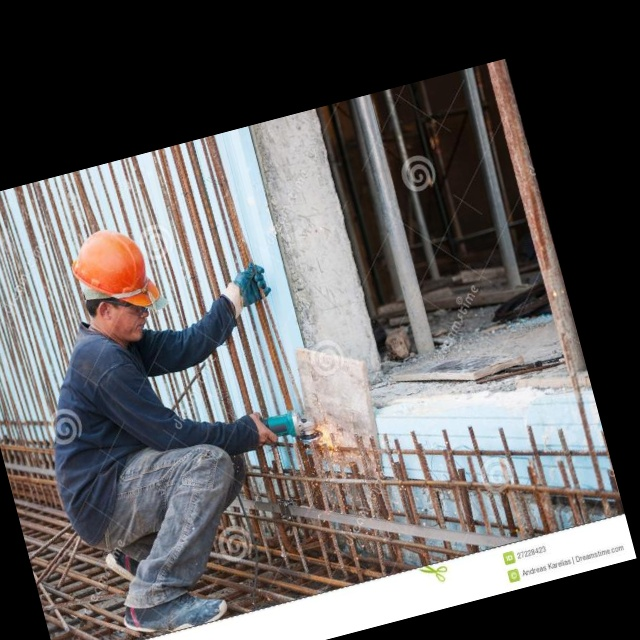Con_Casco: (64, 220, 173, 350)
